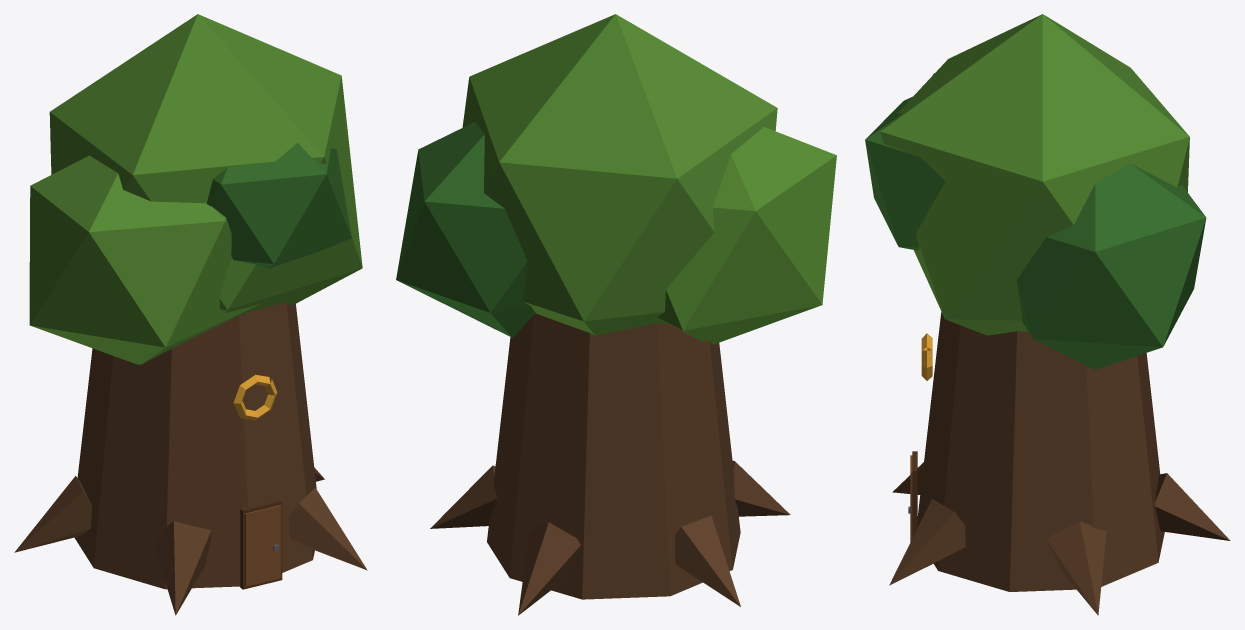
The model's file is treekin_house_a_broken.glb.
3 renders of one model, left to right at view 1: azimuth 30°, elevation 25°; view 2: azimuth 150°, elevation 25°; view 3: azimuth 270°, elevation 25°, orthographic.
Parts seen in each view (by area): view 1: treekin_house_a_piece9, treekin_house_a_piece2, treekin_house_a_piece6, treekin_house_a_piece1, treekin_house_a_piece11, treekin_house_a_piece4, treekin_house_a_piece10, treekin_house_a_piece7, treekin_house_a_piece0, treekin_house_a_piece5, treekin_house_a_piece12, treekin_house_a_piece8; view 2: treekin_house_a_piece10, treekin_house_a_piece5, treekin_house_a_piece2, treekin_house_a_piece1, treekin_house_a_piece7, treekin_house_a_piece13, treekin_house_a_piece4, treekin_house_a_piece3, treekin_house_a_piece0, treekin_house_a_piece12, treekin_house_a_piece9, treekin_house_a_piece8 (+1 smaller); view 3: treekin_house_a_piece12, treekin_house_a_piece1, treekin_house_a_piece8, treekin_house_a_piece9, treekin_house_a_piece3, treekin_house_a_piece0, treekin_house_a_piece11, treekin_house_a_piece7, treekin_house_a_piece10, treekin_house_a_piece13, treekin_house_a_piece4.
Boxes of the visible parts, x1=… form: treekin_house_a_piece9: x1=100, y1=328, x2=367, y2=615; treekin_house_a_piece2: x1=29, y1=155, x2=211, y2=420; treekin_house_a_piece6: x1=97, y1=150, x2=285, y2=404; treekin_house_a_piece1: x1=97, y1=14, x2=344, y2=157; treekin_house_a_piece11: x1=185, y1=114, x2=351, y2=301; treekin_house_a_piece4: x1=63, y1=80, x2=261, y2=303; treekin_house_a_piece10: x1=14, y1=371, x2=111, y2=569; treekin_house_a_piece7: x1=90, y1=348, x2=154, y2=535; treekin_house_a_piece0: x1=268, y1=248, x2=336, y2=336; treekin_house_a_piece5: x1=49, y1=103, x2=103, y2=174; treekin_house_a_piece12: x1=327, y1=73, x2=362, y2=281; treekin_house_a_piece8: x1=303, y1=372, x2=320, y2=554; treekin_house_a_piece10: x1=502, y1=423, x2=740, y2=615; treekin_house_a_piece5: x1=502, y1=132, x2=739, y2=381; treekin_house_a_piece2: x1=633, y1=142, x2=836, y2=404; treekin_house_a_piece1: x1=476, y1=14, x2=707, y2=189; treekin_house_a_piece7: x1=496, y1=357, x2=730, y2=564; treekin_house_a_piece13: x1=438, y1=158, x2=581, y2=332; treekin_house_a_piece4: x1=535, y1=68, x2=777, y2=234; treekin_house_a_piece3: x1=430, y1=307, x2=589, y2=528; treekin_house_a_piece0: x1=405, y1=124, x2=501, y2=315; treekin_house_a_piece12: x1=396, y1=74, x2=490, y2=286; treekin_house_a_piece9: x1=721, y1=371, x2=790, y2=565; treekin_house_a_piece8: x1=442, y1=441, x2=498, y2=556; treekin_house_a_piece12: x1=919, y1=150, x2=1190, y2=350; treekin_house_a_piece1: x1=880, y1=14, x2=1187, y2=213; treekin_house_a_piece8: x1=946, y1=391, x2=1122, y2=608; treekin_house_a_piece9: x1=889, y1=332, x2=1034, y2=585; treekin_house_a_piece3: x1=1032, y1=354, x2=1147, y2=615; treekin_house_a_piece0: x1=920, y1=134, x2=1206, y2=392; treekin_house_a_piece11: x1=865, y1=54, x2=973, y2=263; treekin_house_a_piece7: x1=1092, y1=353, x2=1152, y2=577; treekin_house_a_piece10: x1=1137, y1=369, x2=1230, y2=571; treekin_house_a_piece13: x1=957, y1=134, x2=1201, y2=388; treekin_house_a_piece4: x1=914, y1=40, x2=1161, y2=251.
Size of the model in its own units: 3.05 by 4.32 by 2.72.
